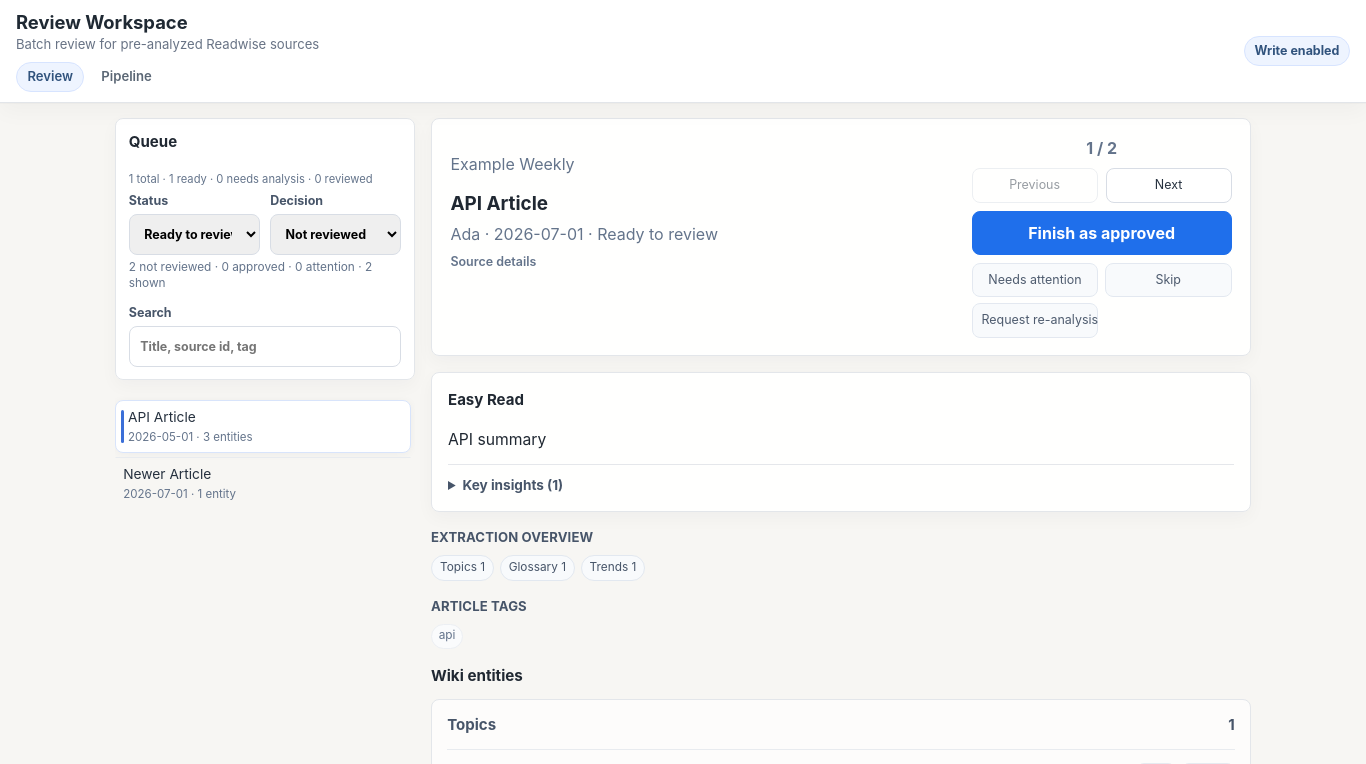
App › selects the next undecided source after finishing the current source
Check: the text "API summary" is shown, box [448,430,546,449]
Click the button "Finish as approved" at coordinates (1102, 233), box [972,211,1232,255]
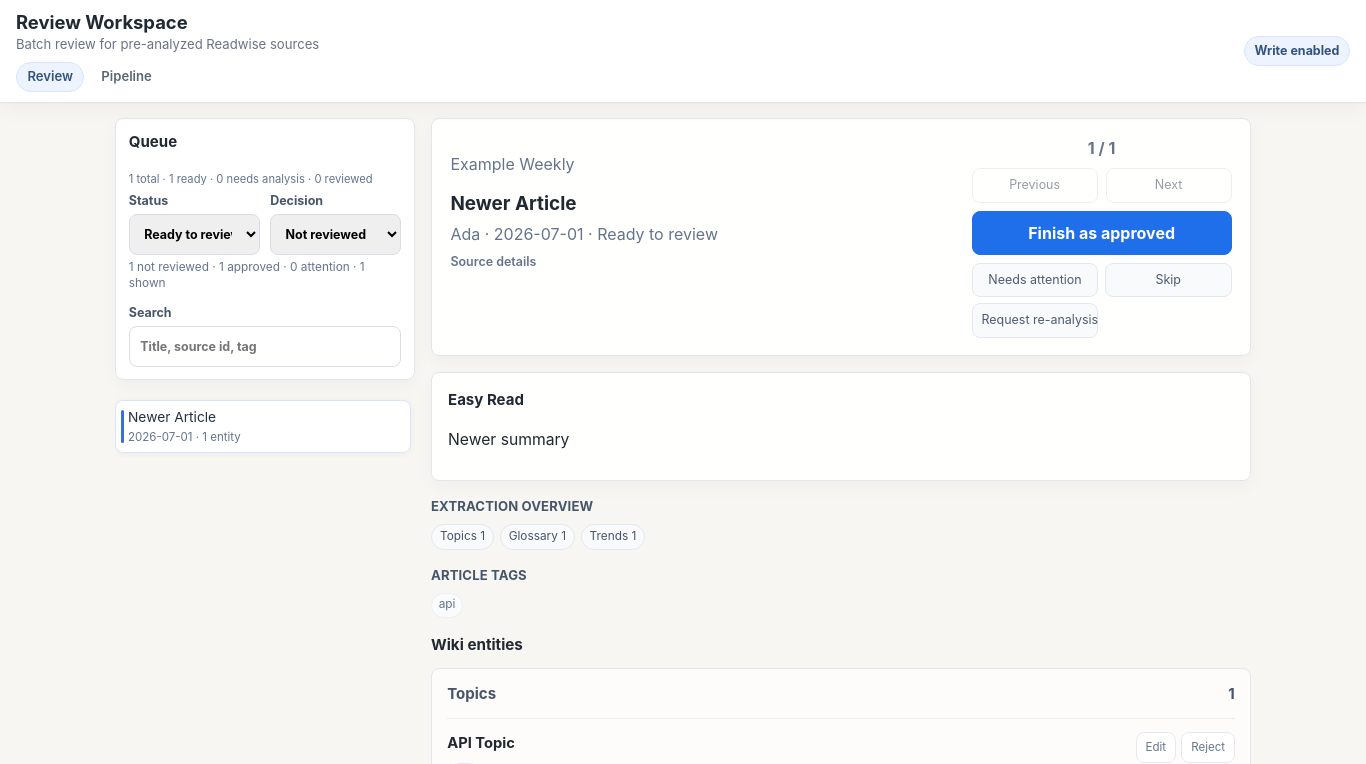
Check: the heading "Newer Article" is shown, box [450,192,576,215]
Check: the text "Newer summary" is shown, box [448,430,569,449]
